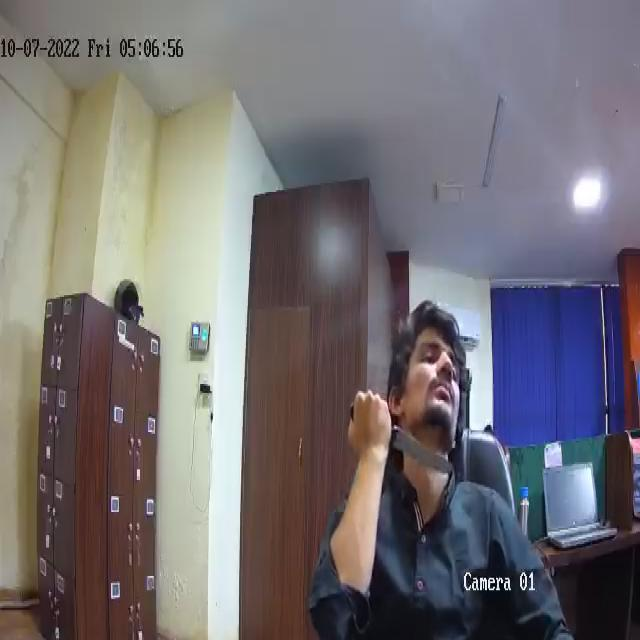Knife: (388, 426, 453, 482)
